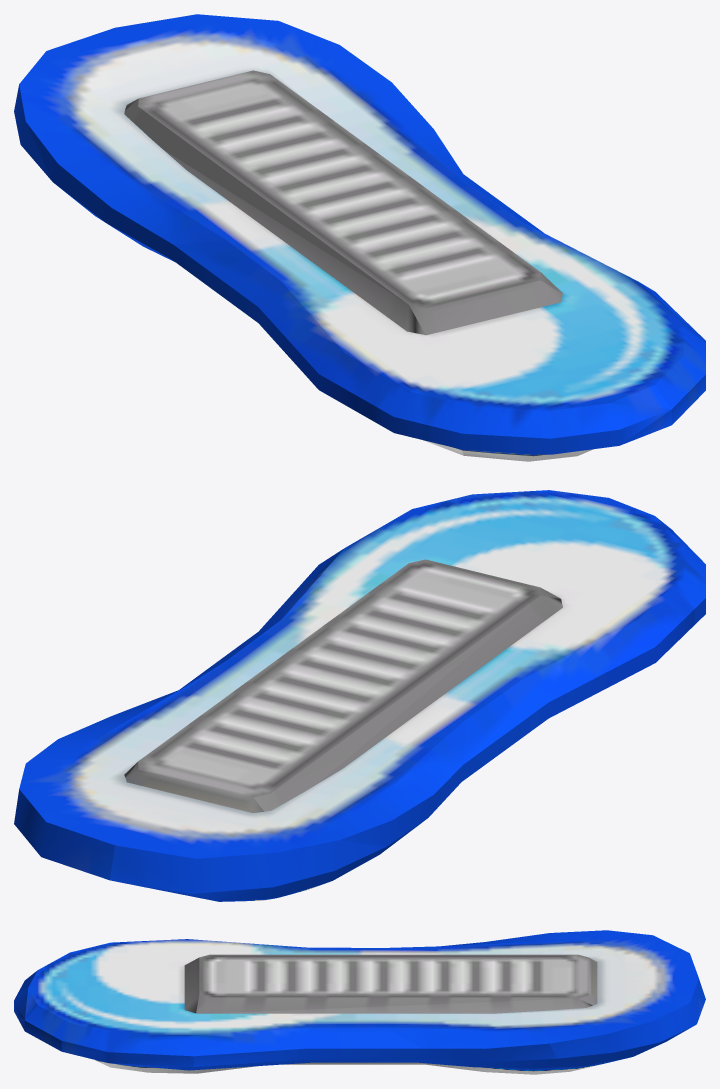
Rendered from board-lod0.glb.
The picture shows the model from 3 angles, top to bottom: view 1: azimuth 30°, elevation 25°; view 2: azimuth 150°, elevation 25°; view 3: azimuth 270°, elevation 25°; orthographic projection. The views are drawn at different scales.
Visible parts, largest first — view 1: Mesh_0003; view 2: Mesh_0003; view 3: Mesh_0003.
Part boxes in pixels (x1=…): Mesh_0003: x1=14, y1=14, x2=705, y2=461; Mesh_0003: x1=14, y1=490, x2=705, y2=901; Mesh_0003: x1=14, y1=930, x2=705, y2=1074.
Size of the model in its own units: 0.8983 by 0.2976 by 2.35.
Materials: 1 (1 with a texture image).
